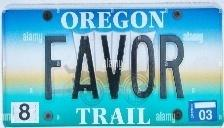0: (129, 33, 158, 99)
A: (70, 35, 100, 101)
F: (41, 34, 70, 101)
R: (158, 34, 189, 100)
V: (100, 34, 127, 100)
